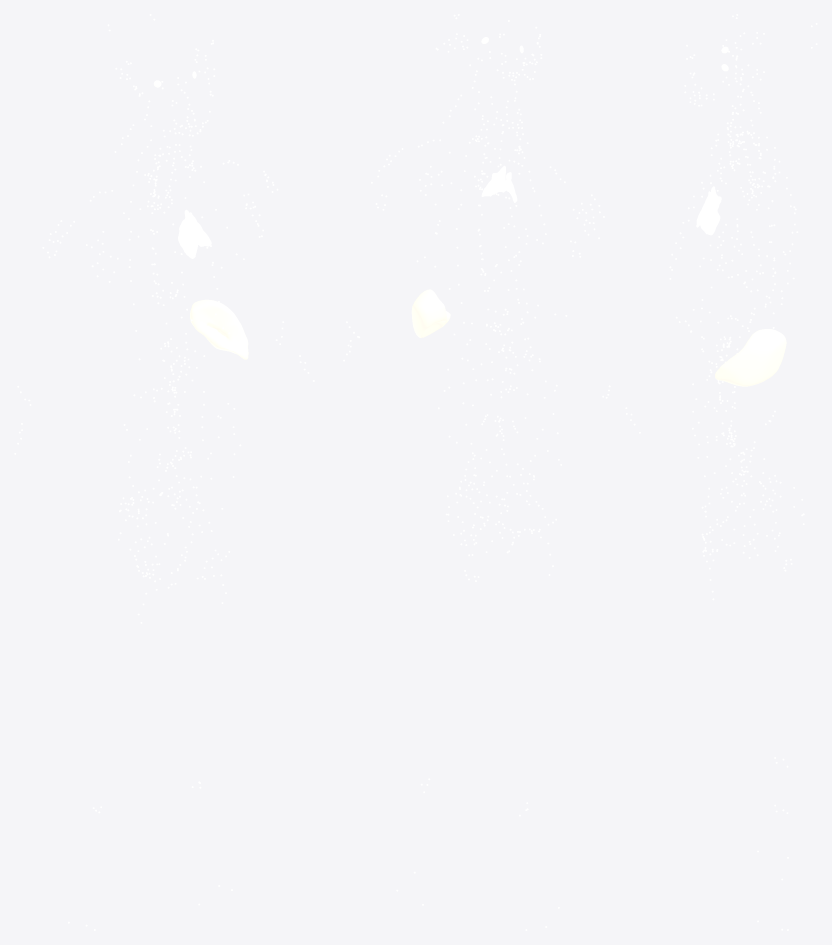
File: linfoide.glb
3 views of the same model, side by side, from view 1: azimuth 30°, elevation 25°; view 2: azimuth 150°, elevation 25°; view 3: azimuth 270°, elevation 25° (orthographic).
Visible parts, largest first — view 1: Spleen; view 2: Spleen; view 3: Spleen, Left lobe of thymus.
Part boxes in pixels (left/top/right/bottom): Spleen: left=190, top=299, right=248, bottom=359; Spleen: left=411, top=289, right=450, bottom=337; Spleen: left=715, top=329, right=786, bottom=386; Left lobe of thymus: left=699, top=186, right=721, bottom=235.
Size of the model in its own units: 0.4523 by 1.28 by 0.1963.
